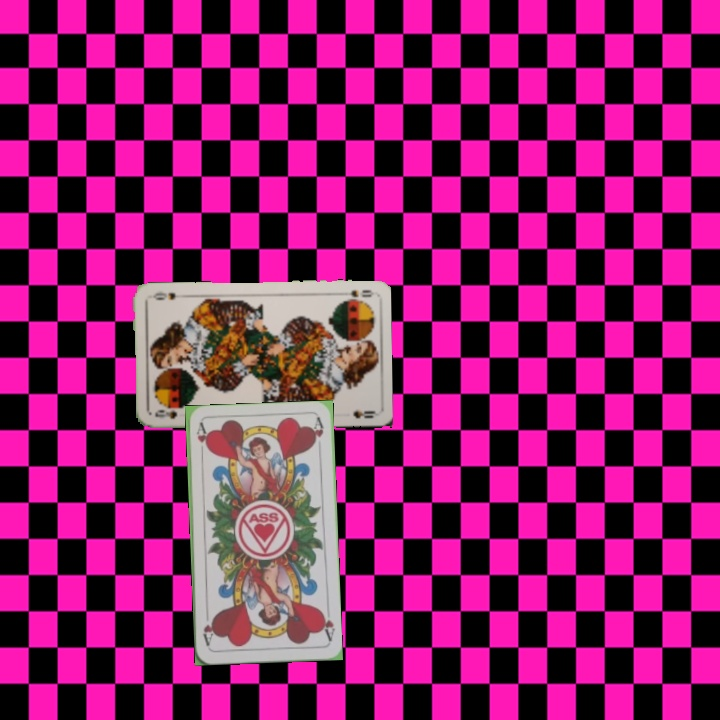HA: (317, 605, 337, 644), (193, 420, 209, 460)
SO: (151, 406, 179, 421), (346, 286, 375, 299)
